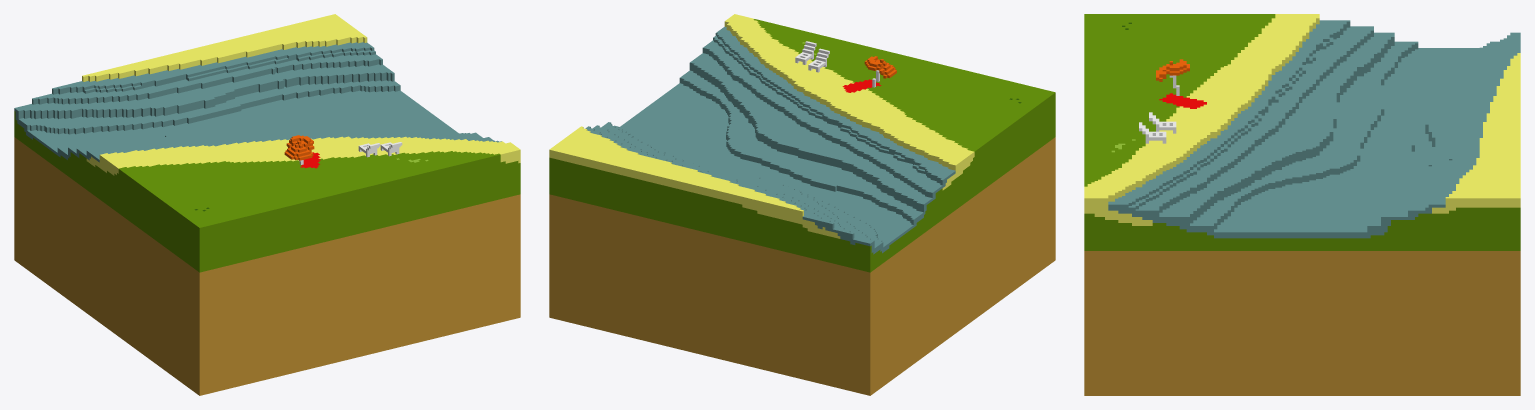
3 renders of one model, left to right at view 1: azimuth 30°, elevation 25°; view 2: azimuth 150°, elevation 25°; view 3: azimuth 270°, elevation 25°, orthographic. The views are drawn at different scales.
Visible parts, largest first — view 1: 10J.002; view 2: 10J.002; view 3: 10J.002.
Part boxes in pixels (left/top/right/bottom): 10J.002: left=14, top=14, right=520, bottom=395; 10J.002: left=549, top=14, right=1055, bottom=395; 10J.002: left=1084, top=14, right=1520, bottom=395.
Size of the model in its own units: 12.8 by 7.4 by 12.8.
1 material, 1 textured.
